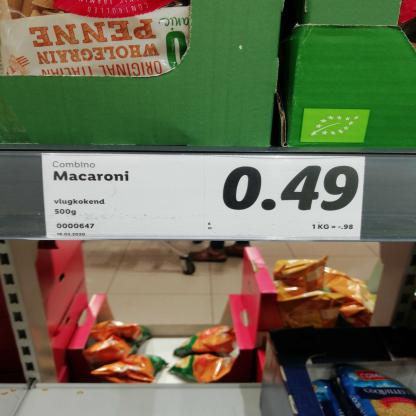prtg: (42, 154, 366, 242)
